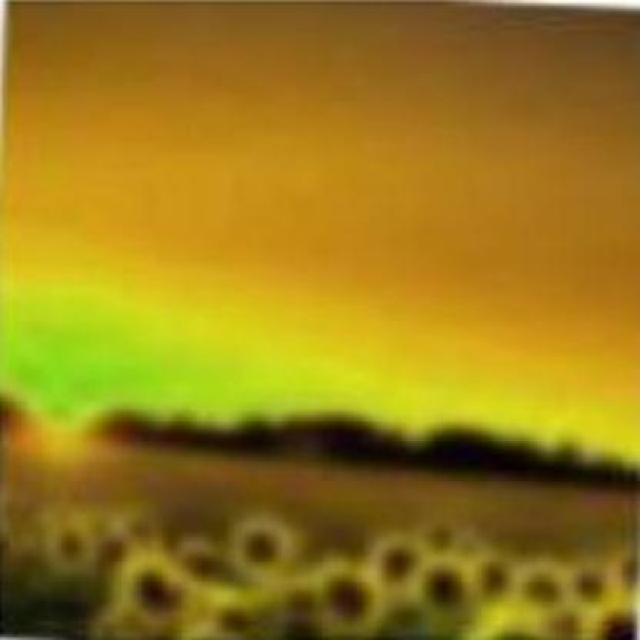sunflower: (310, 558, 387, 637), (116, 557, 198, 631), (230, 518, 298, 579)
